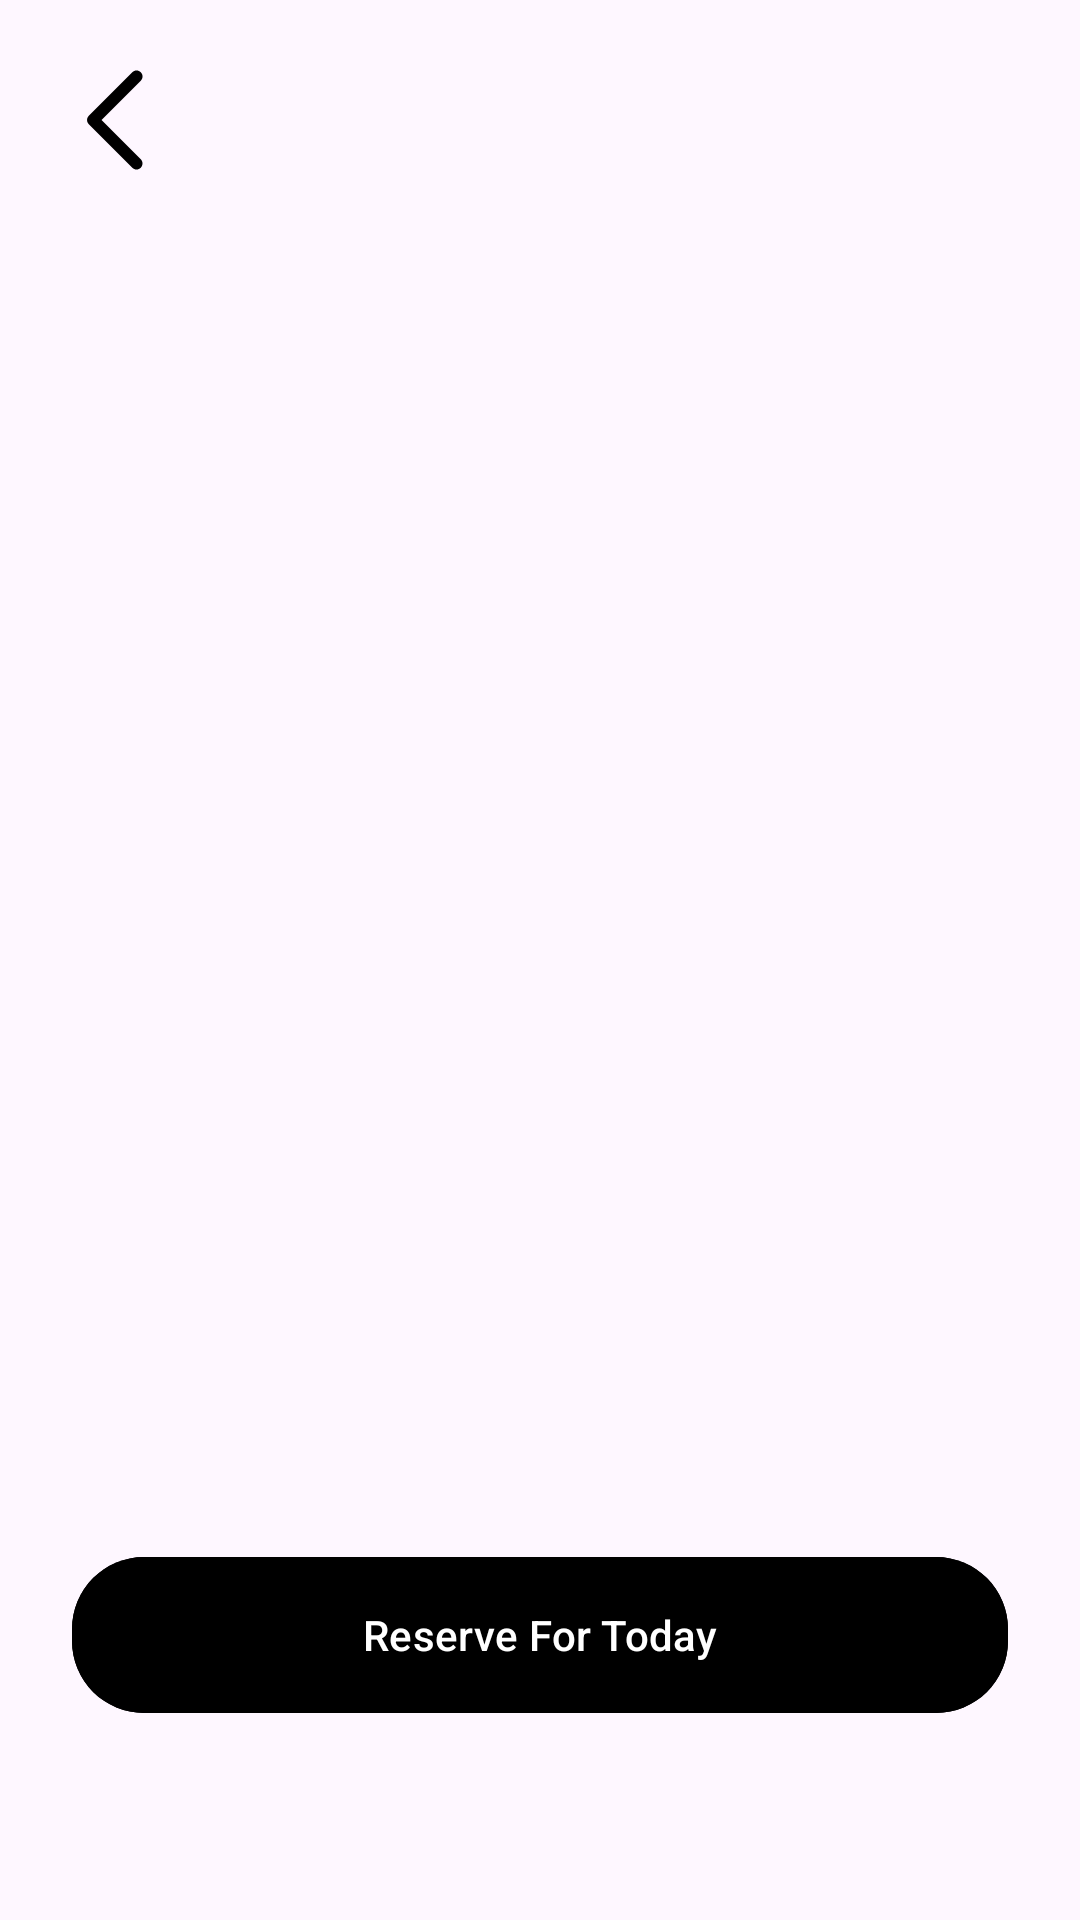

Where icons sit on this 1080px×1920px app screen, as bbox=[x1, y1, x2, y2]:
caret left: bbox=[87, 70, 143, 170]
